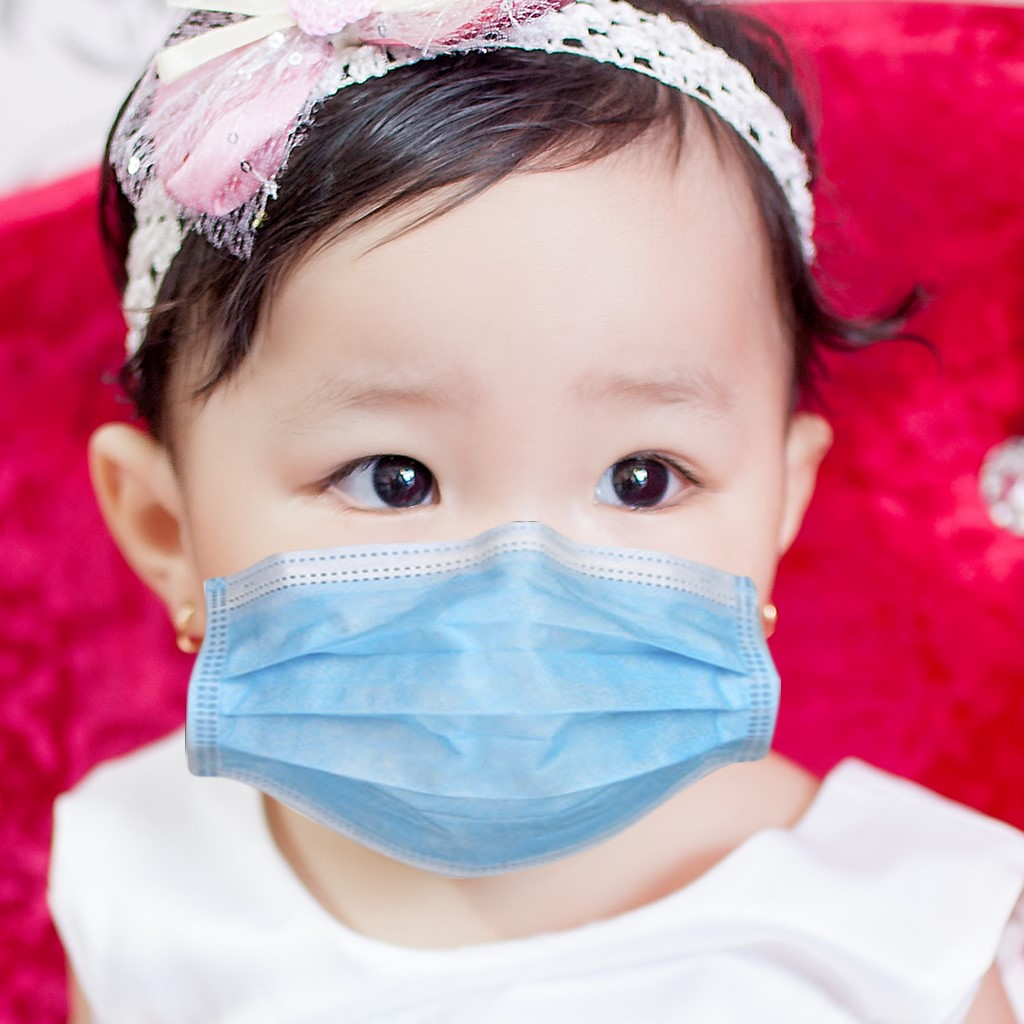con_mascara: (159, 49, 791, 870)
